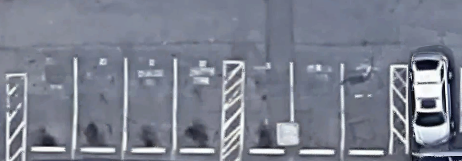Occupied: (408, 65, 461, 152)
Vacant: (291, 62, 342, 153), (26, 57, 75, 151), (75, 58, 125, 150), (126, 58, 175, 151), (243, 62, 292, 155), (174, 60, 222, 150), (343, 63, 391, 153)
